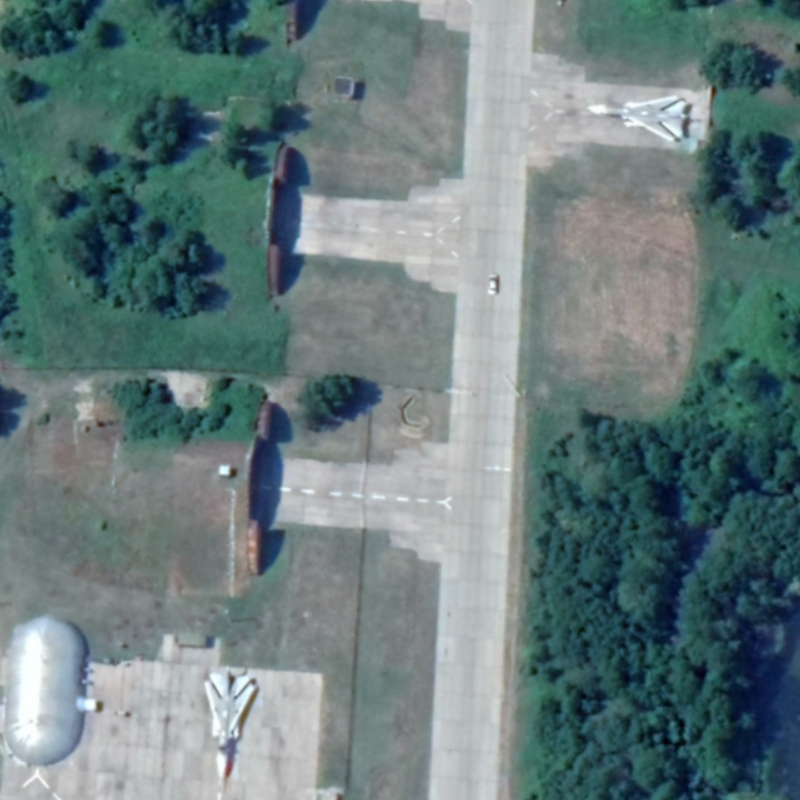A20: (201, 668, 260, 784), (585, 93, 690, 144)
